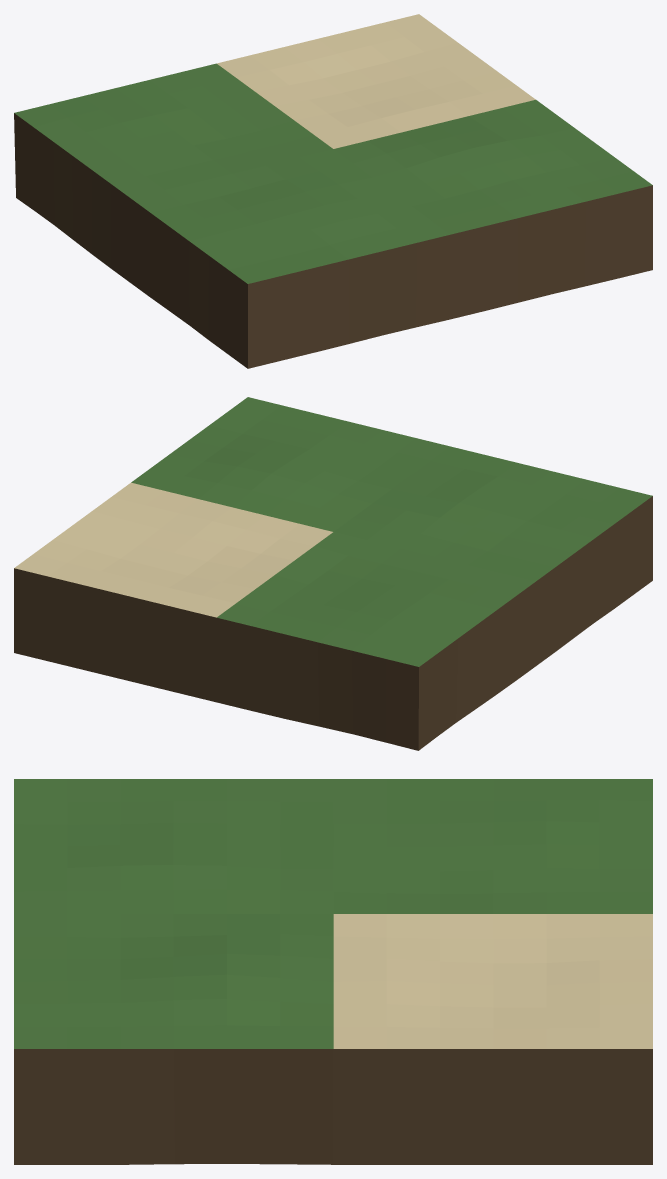
File: grass_sand_corner.glb
3 renders of one model, top to bottom at view 1: azimuth 30°, elevation 25°; view 2: azimuth 150°, elevation 25°; view 3: azimuth 270°, elevation 25°, orthographic. The views are drawn at different scales.
Parts seen in each view (by area): view 1: Grid; view 2: Grid; view 3: Grid.
Boxes of the visible parts, <box> form: Grid: <box>14,14,652,368</box>; Grid: <box>14,397,652,750</box>; Grid: <box>14,779,652,1164</box>.
Size of the model in its own units: 1 by 0.2118 by 1.
